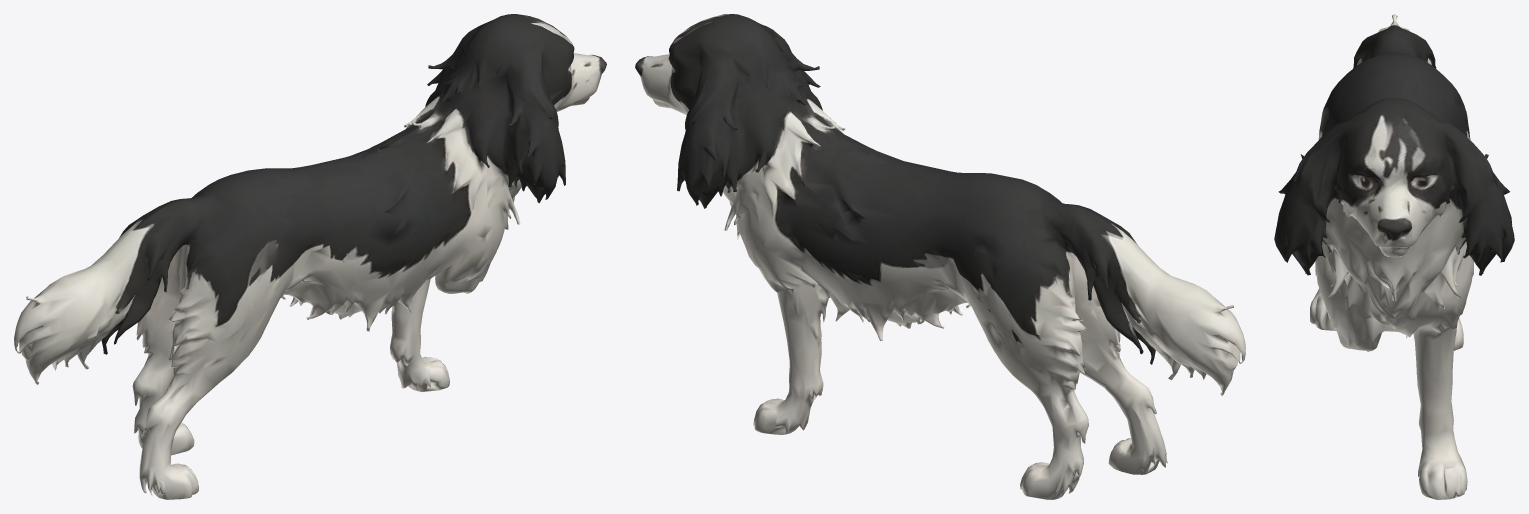
The model's file is smith.glb.
3 renders of one model, left to right at view 1: azimuth 30°, elevation 25°; view 2: azimuth 150°, elevation 25°; view 3: azimuth 270°, elevation 25°, orthographic. The views are drawn at different scales.
Visible parts, largest first — view 1: tripo_node_cf0a0c48-bbe6-454f-a9c1-7277f6b14906; view 2: tripo_node_cf0a0c48-bbe6-454f-a9c1-7277f6b14906; view 3: tripo_node_cf0a0c48-bbe6-454f-a9c1-7277f6b14906.
Part boxes in pixels (x1,y1,x2,y2): tripo_node_cf0a0c48-bbe6-454f-a9c1-7277f6b14906: (14,14,606,499); tripo_node_cf0a0c48-bbe6-454f-a9c1-7277f6b14906: (635,14,1245,499); tripo_node_cf0a0c48-bbe6-454f-a9c1-7277f6b14906: (1274,14,1514,499).
Size of the model in its own units: 0.9994 by 0.5913 by 0.3062.
Materials: 1 (1 with a texture image).
